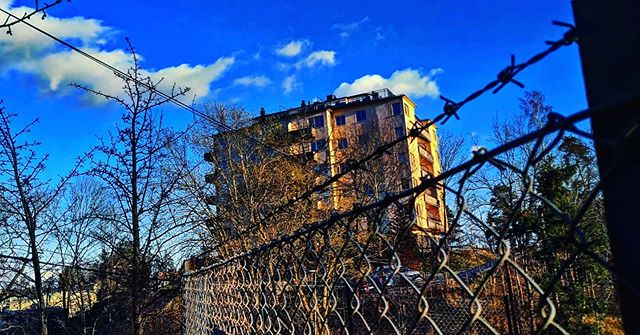building: (213, 94, 434, 273)
sky: (1, 1, 575, 164)
tree: (66, 57, 198, 335), (1, 89, 76, 335)
